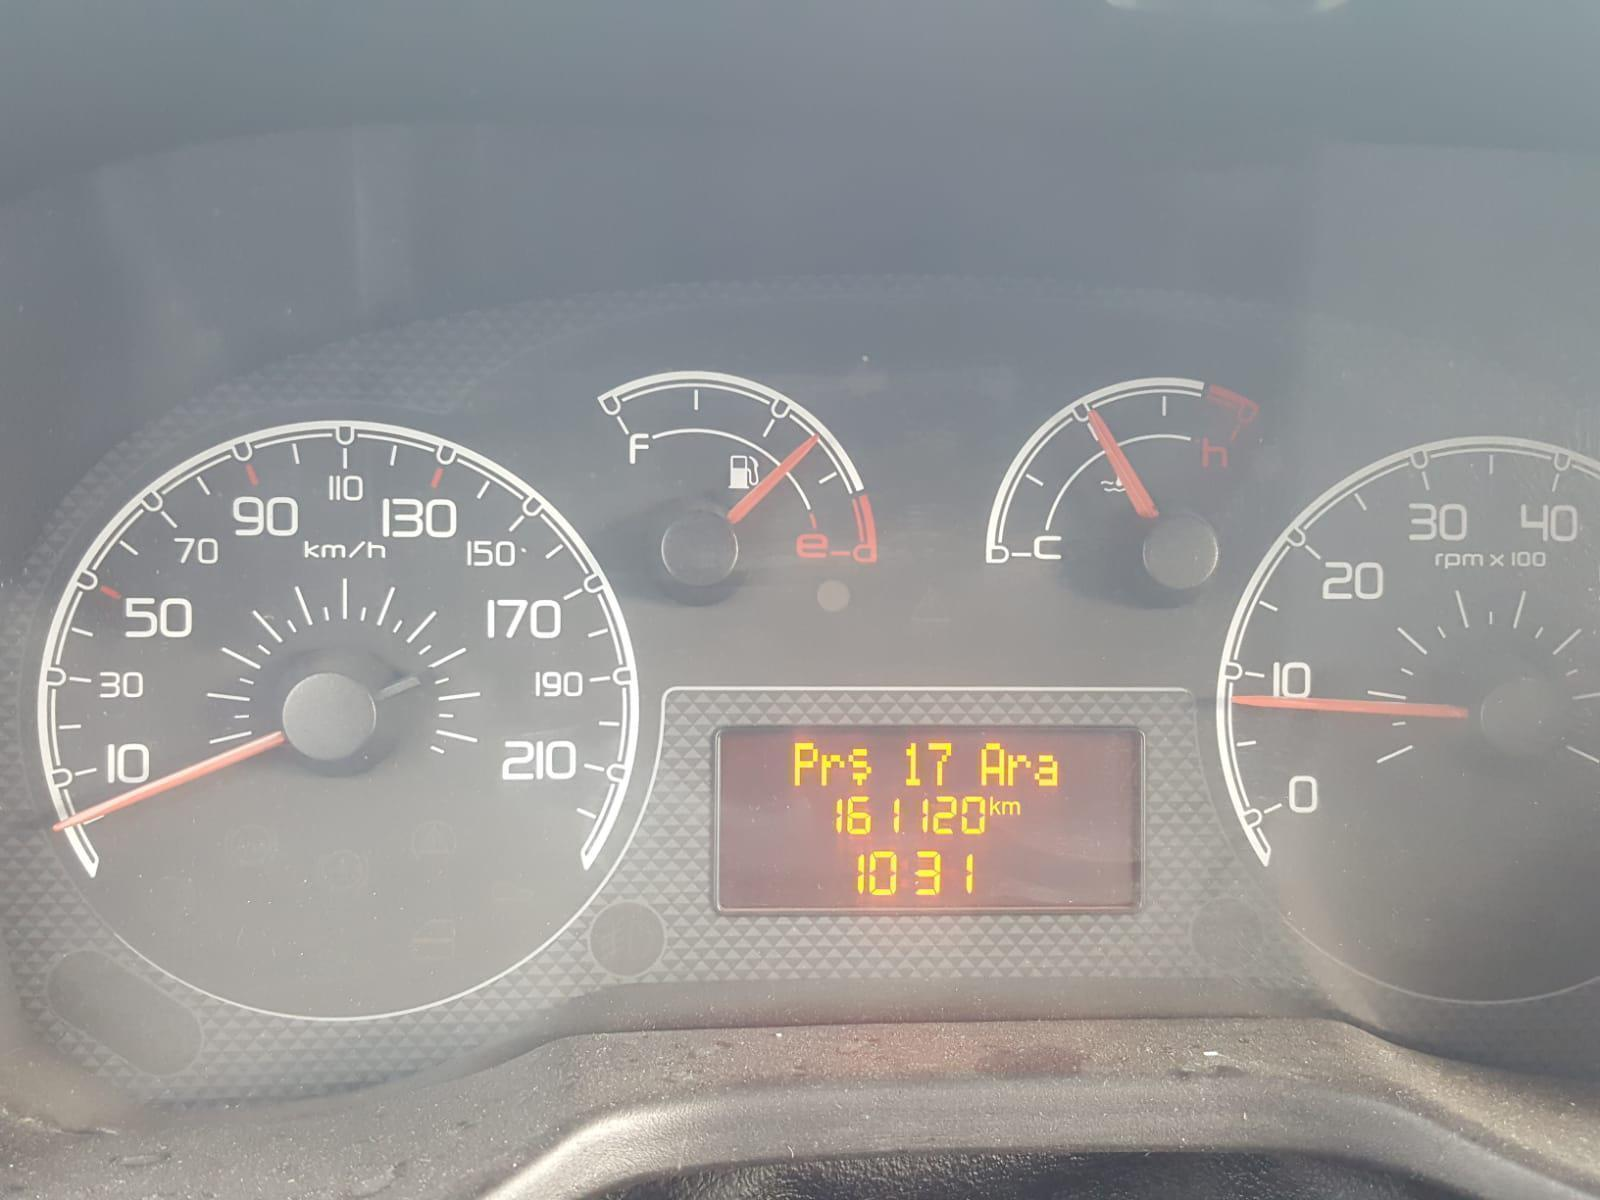0: (867, 850, 897, 896), (960, 795, 986, 834)
1: (905, 741, 922, 787), (855, 852, 866, 895), (964, 853, 974, 894), (891, 797, 901, 833), (920, 797, 929, 834), (835, 798, 844, 834)
2: (931, 794, 957, 834)
3: (913, 850, 941, 896)
6: (845, 795, 872, 834)
7: (926, 741, 952, 787)
X: (792, 741, 818, 787), (980, 742, 1004, 787), (847, 747, 872, 787), (1033, 753, 1060, 787), (1007, 753, 1031, 787), (820, 754, 844, 787), (1002, 800, 1020, 816), (988, 795, 1002, 816)
odometer: (714, 724, 1146, 914)
